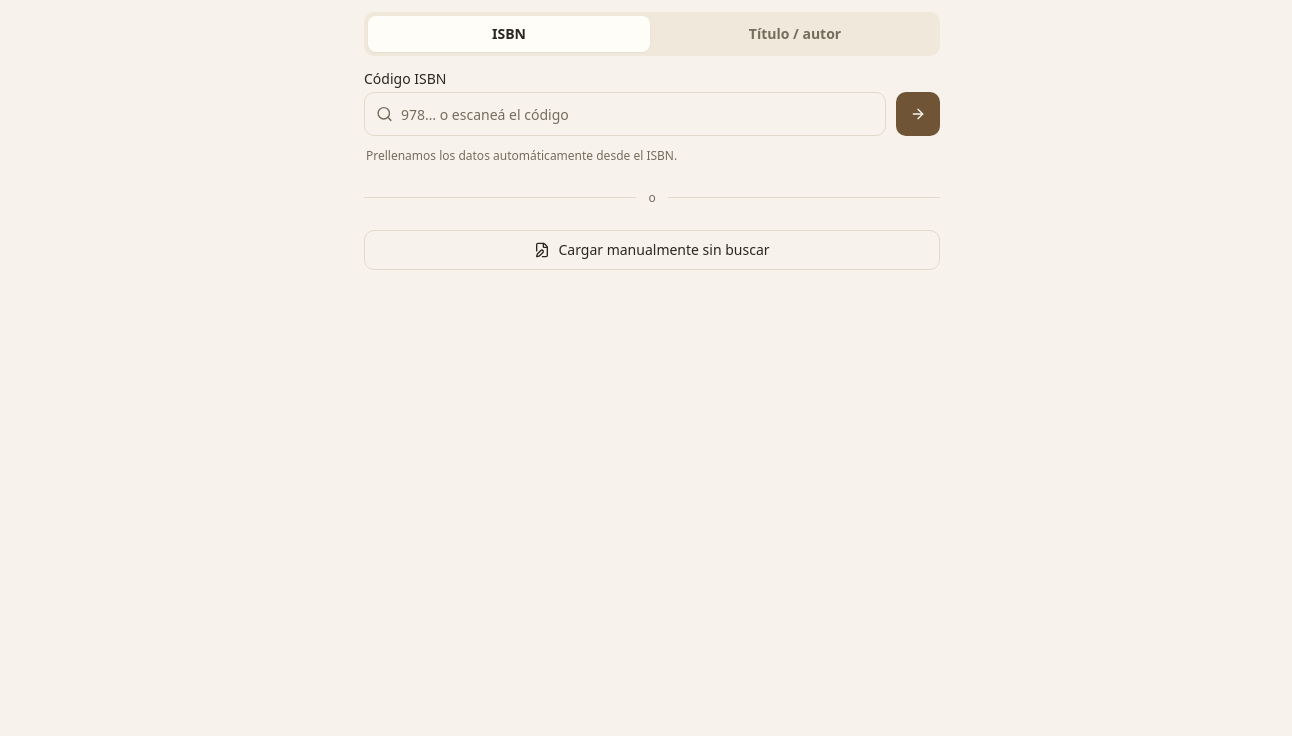
AddBook › shows a validation error when saving without a title
The width and height of the screenshot is (1292, 736).
Click the button "Cargar manualmente sin buscar" at (652,250), box left=364, top=230, right=940, bottom=270
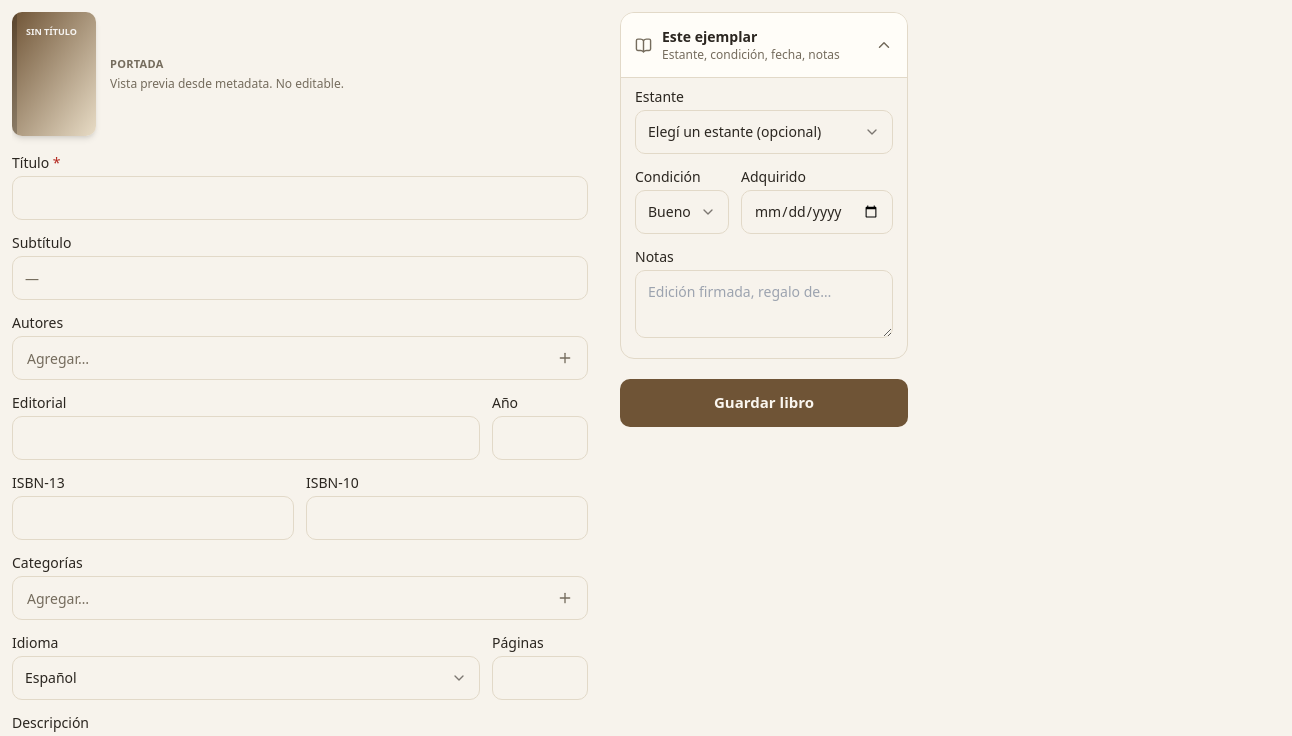
Click the button "Guardar libro" at (764,402), box left=620, top=378, right=908, bottom=426
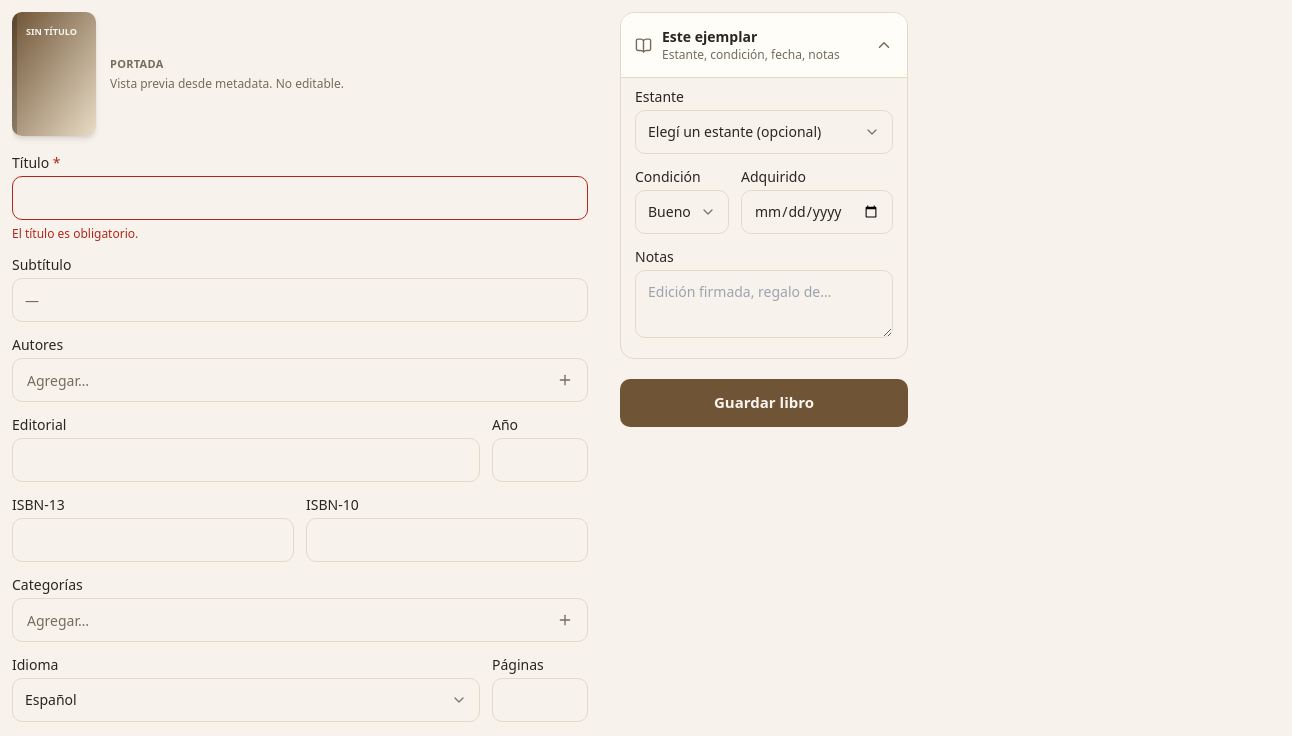
Now the text "El título es obligatorio." is shown, box left=12, top=225, right=138, bottom=242
